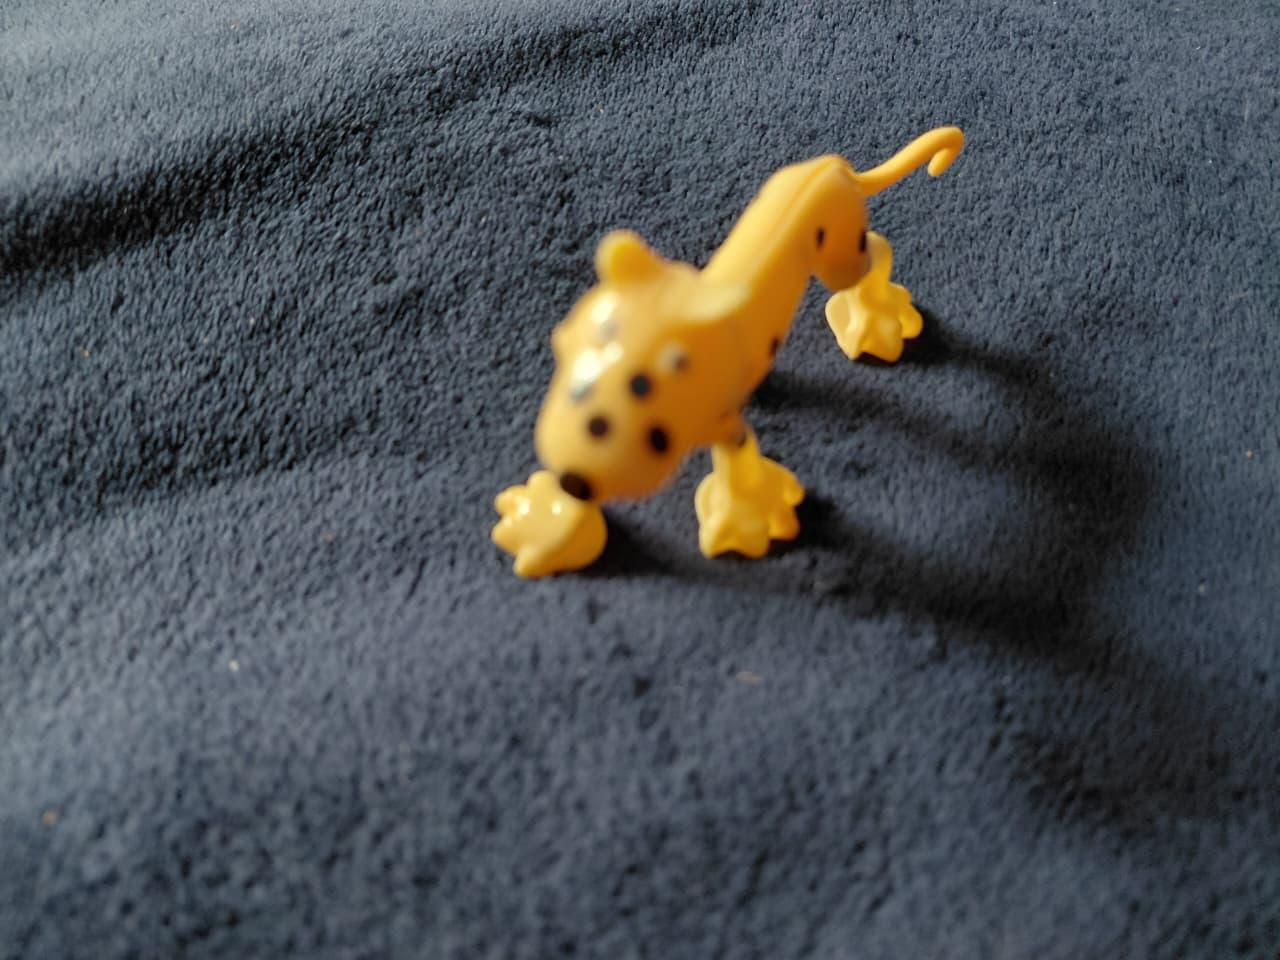cheetah: (464, 109, 965, 585)
